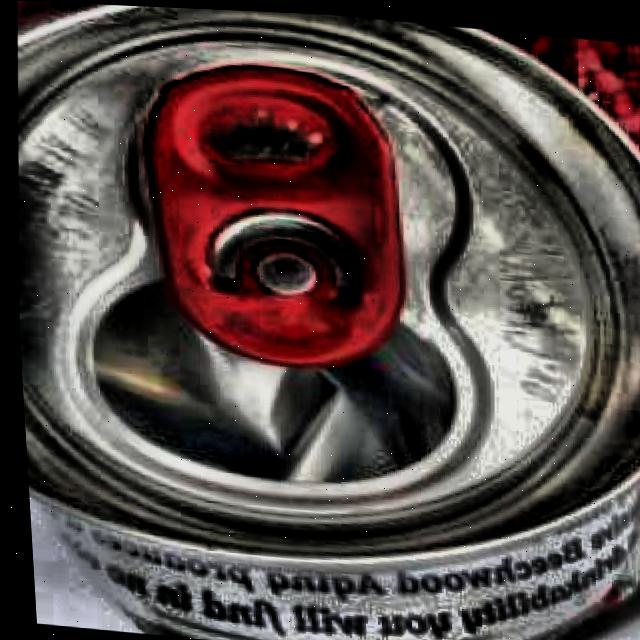metal: (15, 1, 640, 640)
